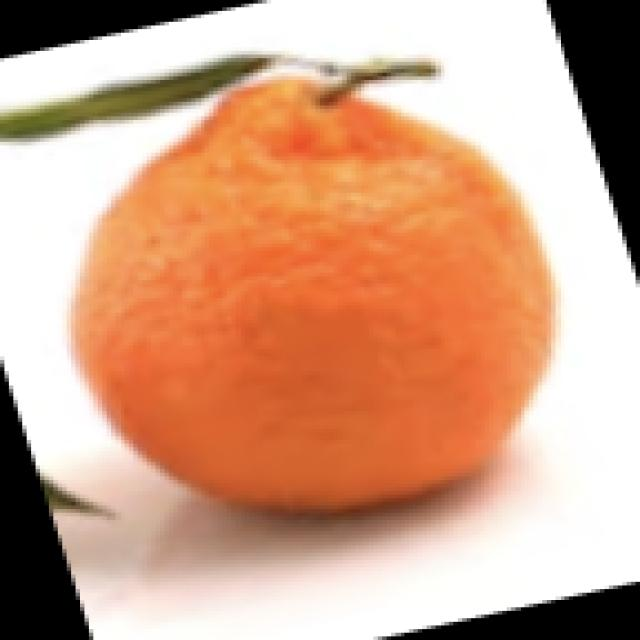matang: (86, 87, 554, 507)
